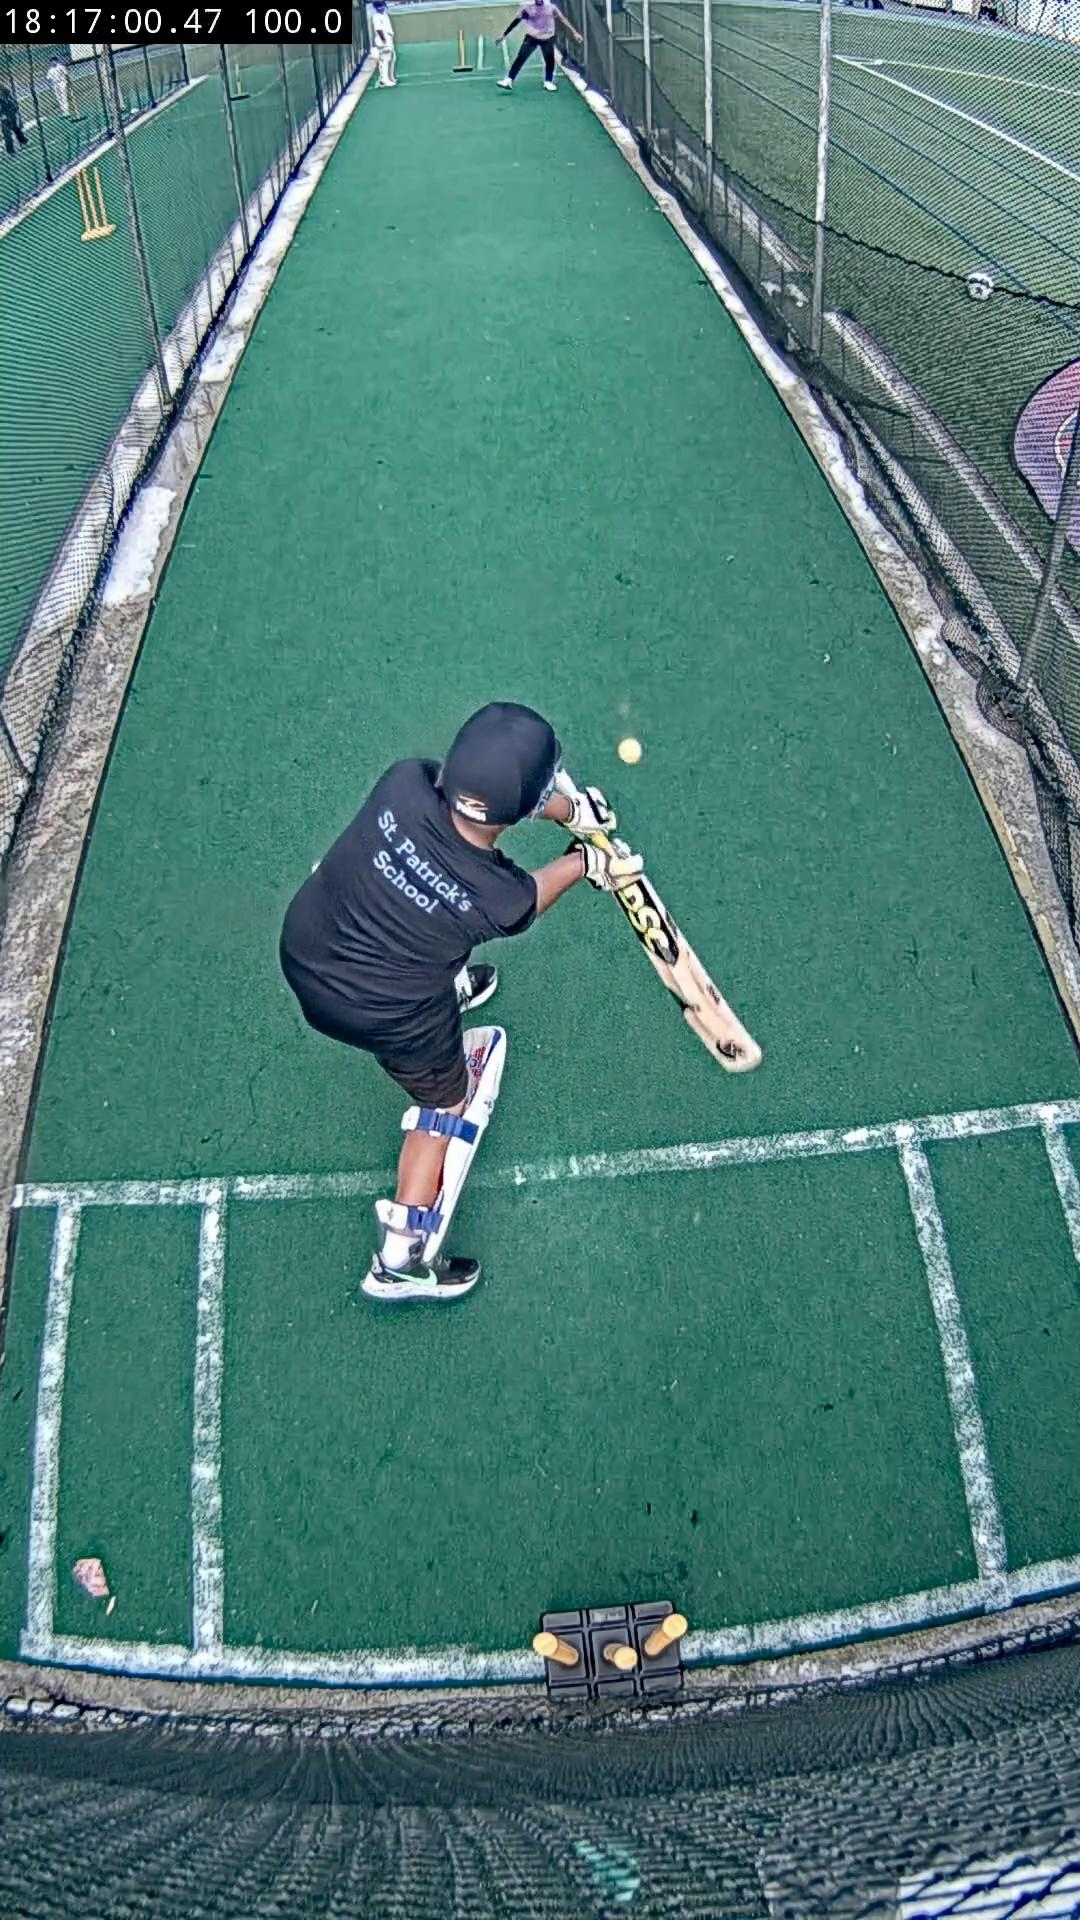ball: (615, 735, 641, 765)
bat: (615, 874, 761, 1072)
gloves: (566, 787, 645, 893)
helmet: (439, 702, 559, 825)
pads: (419, 1027, 506, 1263)
stumps: (533, 1601, 686, 1702)
